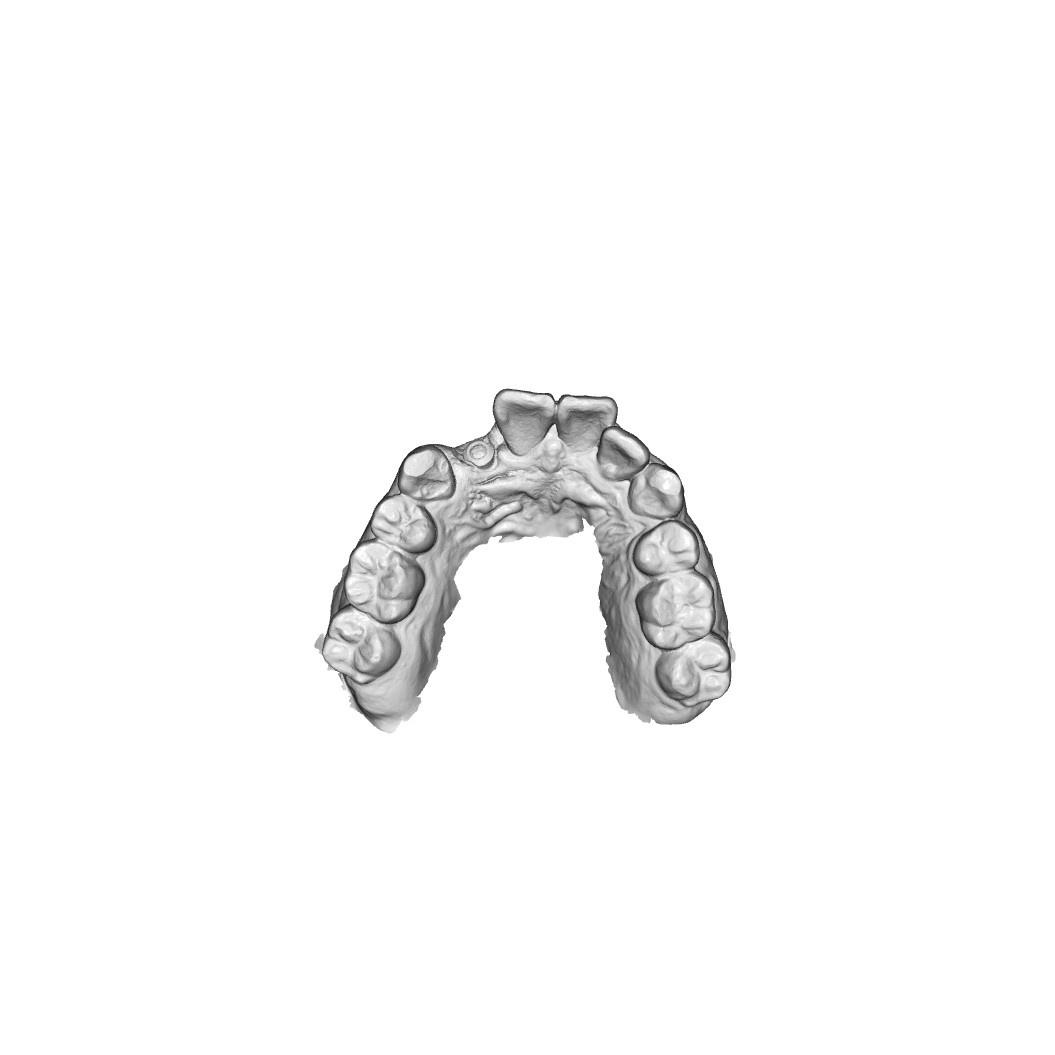canine: (631, 461, 687, 520), (401, 443, 452, 502)
implant: (468, 439, 498, 474)
incisor: (491, 388, 555, 451), (556, 395, 613, 450), (598, 428, 647, 484)
molar: (339, 539, 425, 620), (646, 575, 716, 648), (320, 613, 396, 679), (659, 638, 727, 707)
premolar: (372, 497, 433, 551), (636, 523, 696, 570)
